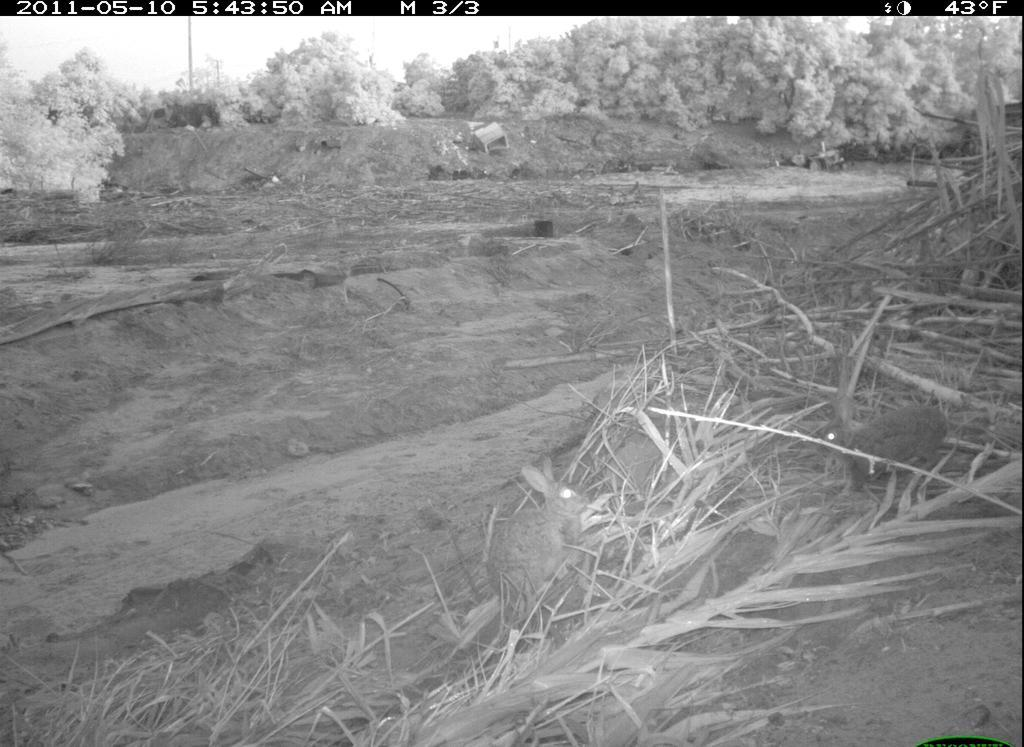rabbit: (481, 454, 597, 623), (813, 379, 959, 501)
